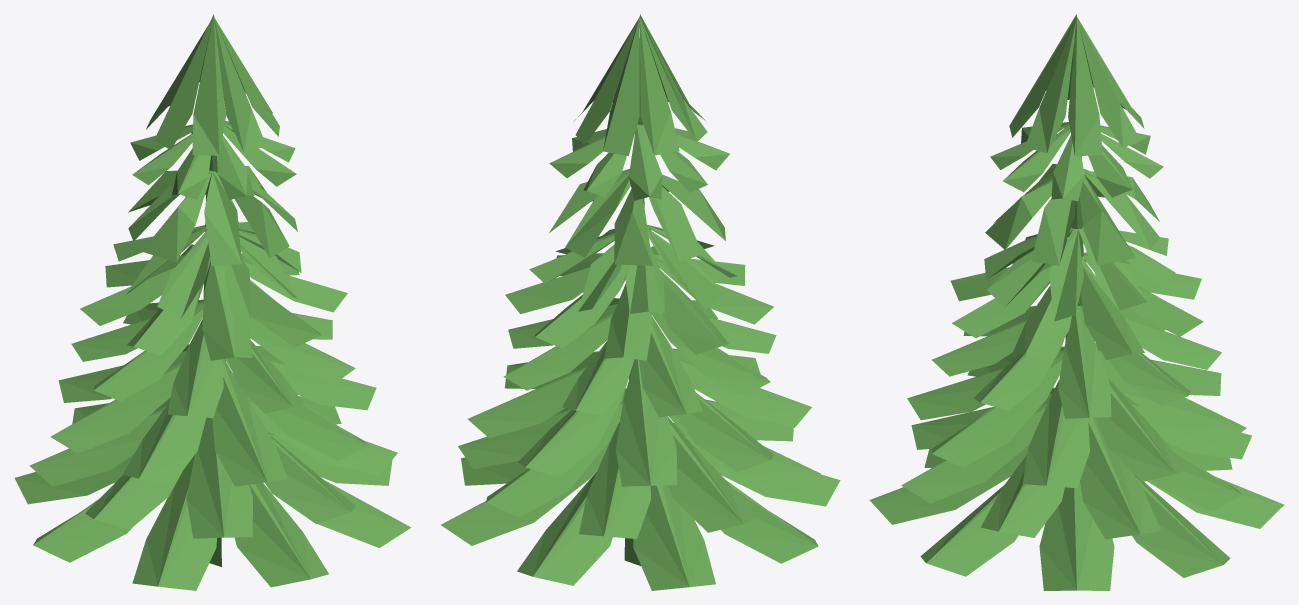
The model's file is Fir_Tree_408face.fbx.
3 views of the same model, side by side, from view 1: azimuth 30°, elevation 25°; view 2: azimuth 150°, elevation 25°; view 3: azimuth 270°, elevation 25° (orthographic).
Visible parts, largest first — view 1: Fir-tree; view 2: Fir-tree; view 3: Fir-tree.
Boxes of the visible parts, bbox=[...] form: Fir-tree: bbox=[14, 14, 411, 590]; Fir-tree: bbox=[441, 14, 840, 590]; Fir-tree: bbox=[869, 14, 1284, 590].
Size of the model in its own units: 370 by 540 by 370.
